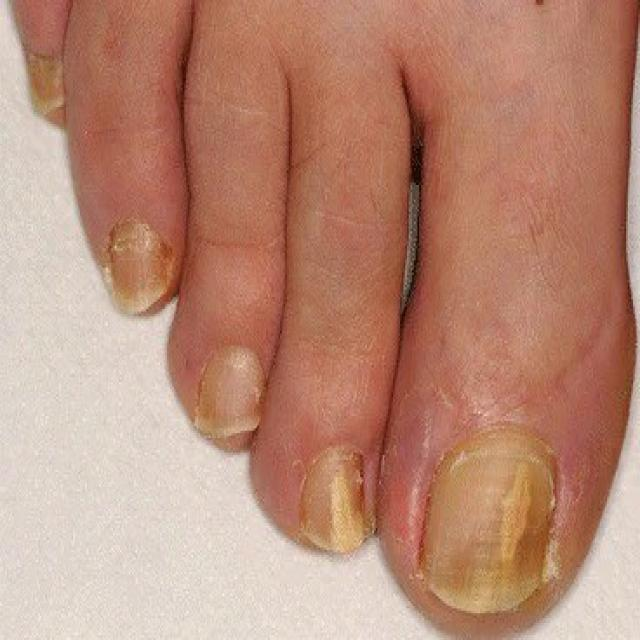diabetes: (420, 434, 556, 612), (299, 449, 369, 550), (197, 345, 267, 439), (109, 221, 169, 315), (25, 43, 65, 115)
